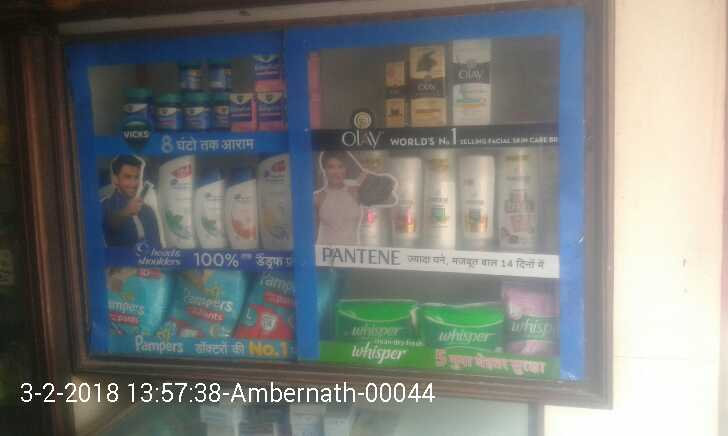beauty: (497, 146, 539, 250), (152, 152, 193, 255), (450, 151, 492, 250), (255, 145, 291, 256), (450, 40, 494, 126), (408, 43, 450, 128), (188, 167, 225, 250), (421, 154, 454, 245), (388, 158, 418, 252), (219, 170, 254, 247), (378, 58, 408, 132)
pharmacy: (163, 267, 242, 342), (414, 300, 502, 362), (232, 271, 299, 349), (93, 271, 162, 333), (329, 301, 418, 346), (503, 286, 553, 354), (118, 81, 153, 135), (178, 92, 212, 136), (250, 46, 284, 85), (227, 91, 253, 137), (152, 85, 178, 128), (255, 88, 281, 131)
